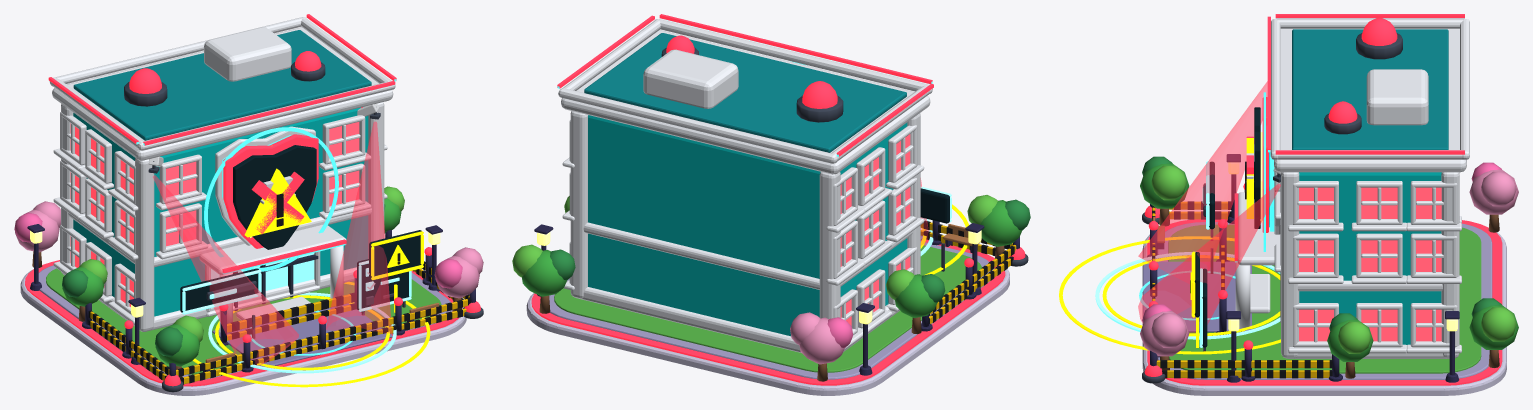
The picture shows the model from 3 angles, left to right: view 1: azimuth 30°, elevation 25°; view 2: azimuth 150°, elevation 25°; view 3: azimuth 270°, elevation 25°; orthographic projection. The views are drawn at different scales.
Visible parts, largest first — view 1: B05_roof, B05_body, B05_windows, B05_state_incident_barrier_gate, B05_plot, B05_trees_leaf, B05_state_incident_camera_beam_R, B05_state_incident_camera_beam_L, B05_state_incident_shield, B05_entrance, B05_state_incident_window_glow, B05_plaza (+14 smaller); view 2: B05_body, B05_roof, B05_plot, B05_windows, B05_trees_leaf, B05_state_incident_plot_ring, B05_state_incident_barrier_gate, B05_state_incident_edge_trim, B05_state_incident_window_glow, B05_state_incident_siren_beacon, B05_lamps, B05_state_recovery_progress_panel (+1 smaller); view 3: B05_roof, B05_plot, B05_windows, B05_body, B05_trees_leaf, B05_state_incident_window_glow, B05_state_incident_camera_beam_L, B05_state_incident_barrier_gate, B05_state_incident_camera_beam_R, B05_plaza, B05_entrance, B05_state_incident_plot_ring (+15 smaller).
Boxes of the visible parts, box(x1,y1,x2,y2) form: B05_roof: box(49, 17, 395, 160); B05_body: box(61, 102, 384, 331); B05_windows: box(53, 112, 387, 324); B05_state_incident_barrier_gate: box(82, 230, 475, 384); B05_plot: box(20, 265, 466, 395); B05_trees_leaf: box(14, 186, 483, 366); B05_state_incident_camera_beam_R: box(326, 121, 392, 334); B05_state_incident_camera_beam_L: box(153, 175, 298, 368); B05_state_incident_shield: box(223, 134, 318, 249); B05_entrance: box(199, 224, 346, 333); B05_state_incident_window_glow: box(70, 122, 359, 306); B05_plaza: box(212, 303, 392, 367); B05_body: box(570, 111, 920, 352); B05_roof: box(558, 19, 932, 174); B05_plot: box(526, 241, 1009, 395); B05_windows: box(562, 120, 924, 350); B05_trees_leaf: box(512, 195, 1030, 364); B05_state_incident_plot_ring: box(531, 240, 1005, 385); B05_state_incident_barrier_gate: box(920, 220, 1019, 331); B05_state_incident_edge_trim: box(557, 14, 933, 156); B05_state_incident_window_glow: box(840, 134, 910, 325); B05_state_incident_siren_beacon: box(796, 81, 843, 122); B05_lamps: box(534, 223, 984, 375); B05_state_recovery_progress_panel: box(920, 186, 951, 271); B05_roof: box(1270, 19, 1469, 172); B05_plot: box(1142, 222, 1506, 395); B05_windows: box(1274, 181, 1461, 353); B05_body: box(1281, 172, 1459, 358); B05_trees_leaf: box(1140, 156, 1518, 361); B05_state_incident_window_glow: box(1299, 187, 1441, 341); B05_state_incident_camera_beam_L: box(1138, 81, 1267, 281); B05_state_incident_barrier_gate: box(1147, 183, 1342, 381); B05_state_incident_camera_beam_R: box(1138, 183, 1280, 332); B05_plaza: box(1142, 261, 1251, 332); B05_entrance: box(1235, 192, 1280, 327); B05_state_incident_plot_ring: box(1147, 219, 1502, 385).
Bounding box in the file's own units: 23.54 × 16.15 × 25.26.
